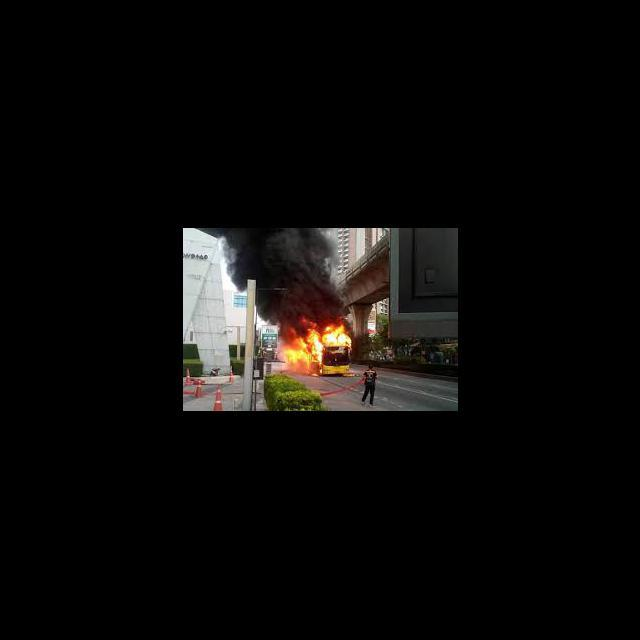Fire: (279, 322, 353, 380)
Smoke: (204, 230, 351, 321)
